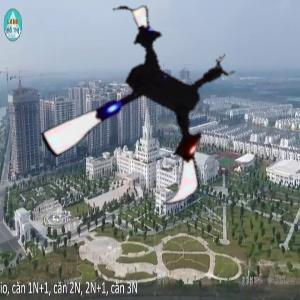drone: (34, 4, 247, 217)
